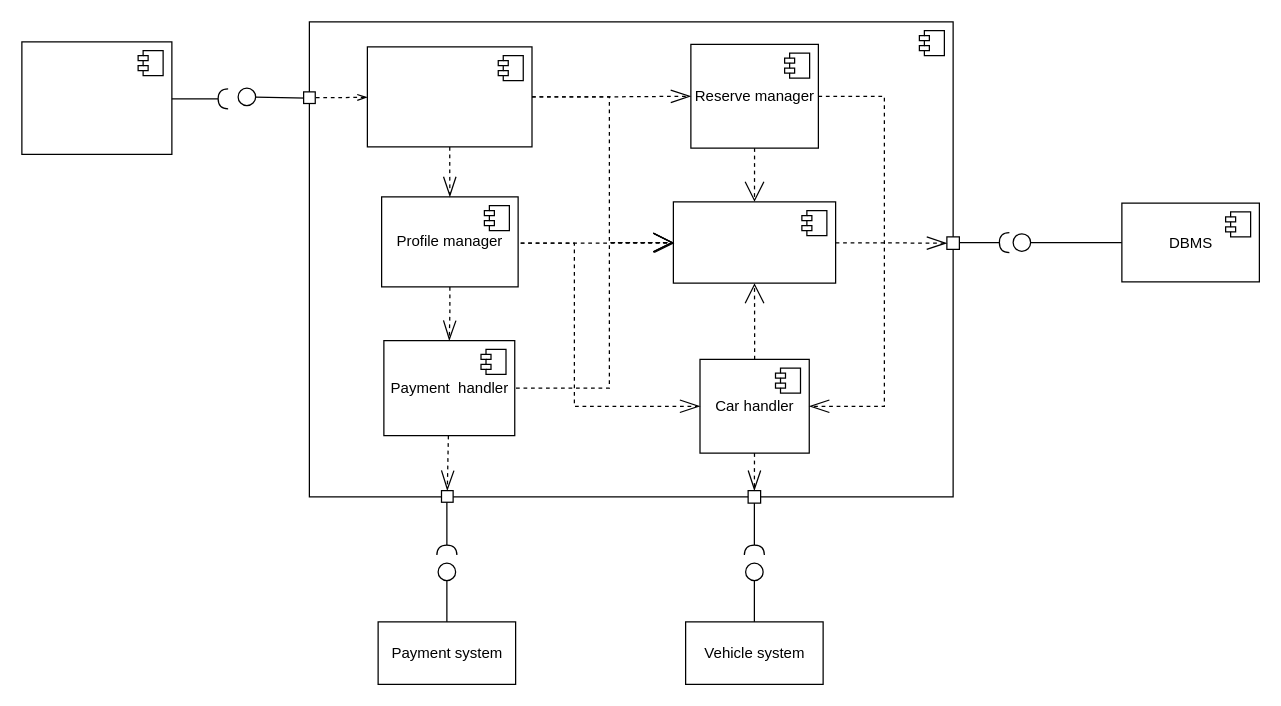
The diagram is 1281 pixels wide and 706 high, and some of its shapes have lost their labels. The box of each missing label's shape, as (x1, y1, x2, y2) in pixels:
Client request manager: (366, 46, 532, 147)
Data manager: (672, 201, 836, 283)
Web Browser: (21, 41, 172, 154)
